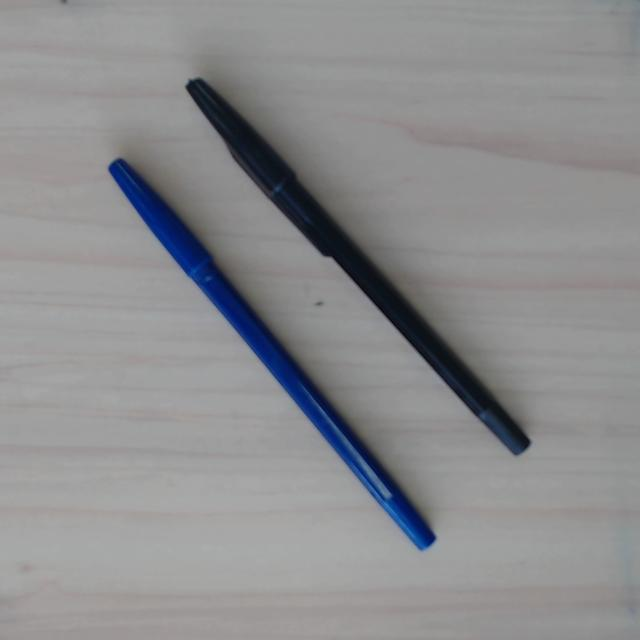Pulpen-Biru: (102, 152, 443, 555)
Pulpen-Hitam: (176, 70, 533, 466)
